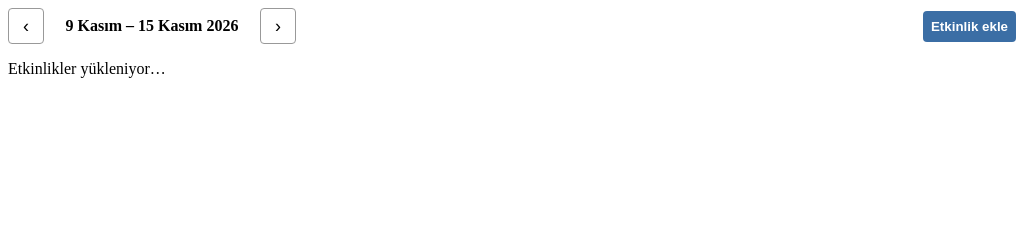
Scenario: WeeklySchedulePage › week view (FR-M3-03) › a late answer for the week before does not replace the week on the screen
Expected: the text "Etkinlikler yükleniyor…" is shown, [8,60,166,77]
Click the button named "Sonraki hafta". click: click(278, 26)
box: [260,8,296,44]
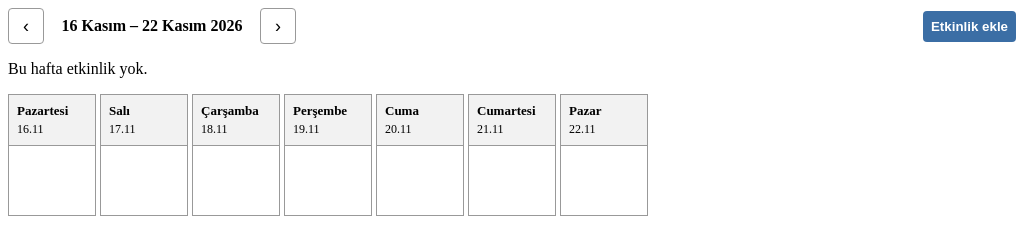
Expected: the heading "16 Kasım – 22 Kasım 2026" is shown, [52,17,252,35]
Expected: the text "Bu hafta etkinlik yok." is shown, [8,60,148,77]
